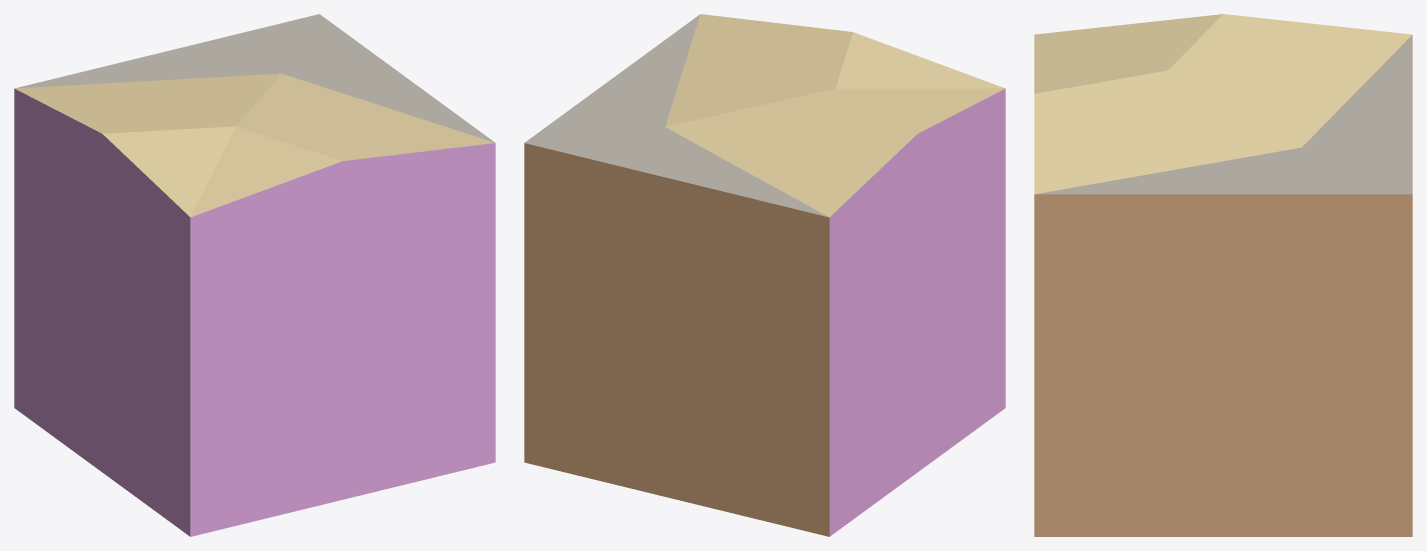
Rendered from Tiered_Walkway_Path_Transition_Curve_Outer_1x1.glb.
3 renders of one model, left to right at view 1: azimuth 30°, elevation 25°; view 2: azimuth 150°, elevation 25°; view 3: azimuth 270°, elevation 25°, orthographic. The views are drawn at different scales.
Visible parts, largest first — view 1: Tiered_Walkway_Path_Transition_Curve_Outer_1x1; view 2: Tiered_Walkway_Path_Transition_Curve_Outer_1x1; view 3: Tiered_Walkway_Path_Transition_Curve_Outer_1x1.
Boxes of the visible parts, x1,y1,x2,y2 form: Tiered_Walkway_Path_Transition_Curve_Outer_1x1: (14,14,495,536); Tiered_Walkway_Path_Transition_Curve_Outer_1x1: (524,14,1005,536); Tiered_Walkway_Path_Transition_Curve_Outer_1x1: (1034,14,1412,536).
Size of the model in its own units: 100 by 106 by 100.
